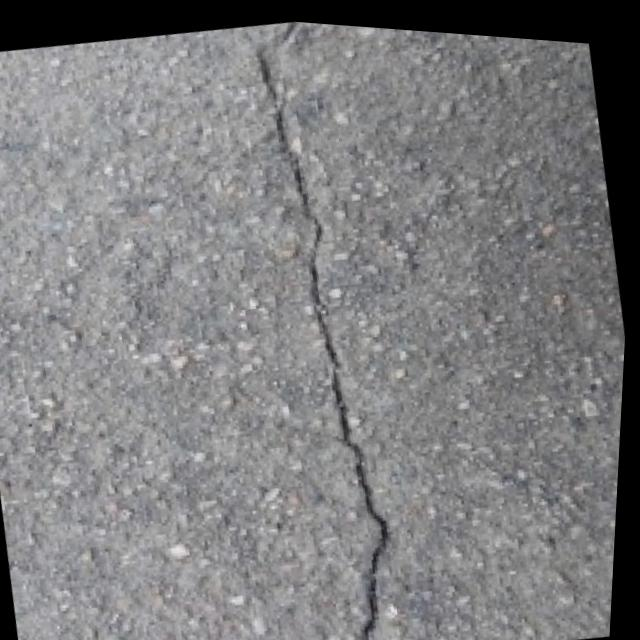Crack: (203, 13, 468, 640)
